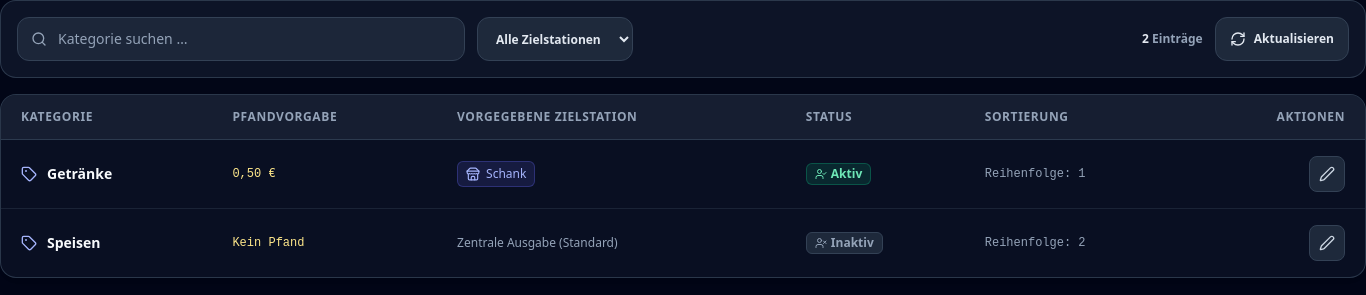
Scenario: AdminCategoriesView › rendert Kategorien mit Zielstation und filtert
This screenshot has width=1366, height=295.
Expected: the text "Getränke" is shown, [47,164,112,184]
Expected: the text "Speisen" is shown, [47,233,101,253]
Select "Station: Schank" in the dropdown named "Zielstation filtern". click: (555, 39)
box: [477,17,633,61]
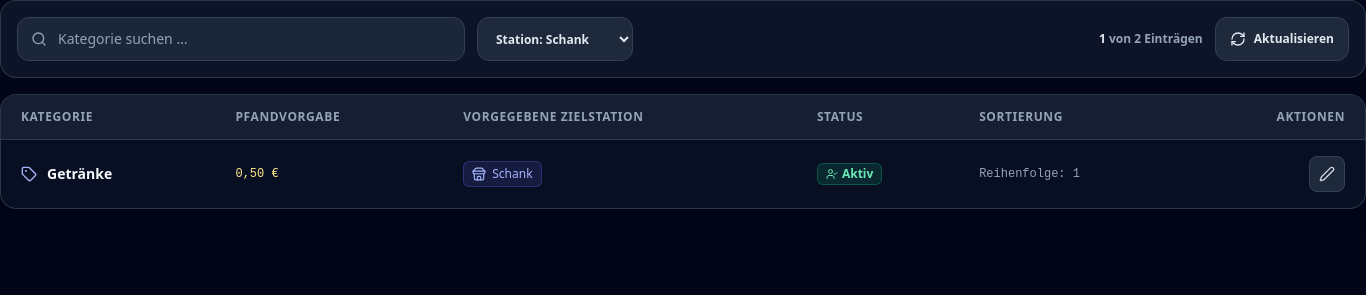
Expected: the text "Getränke" is shown, [47,164,112,184]
Expected: the text "Speisen" is gone
